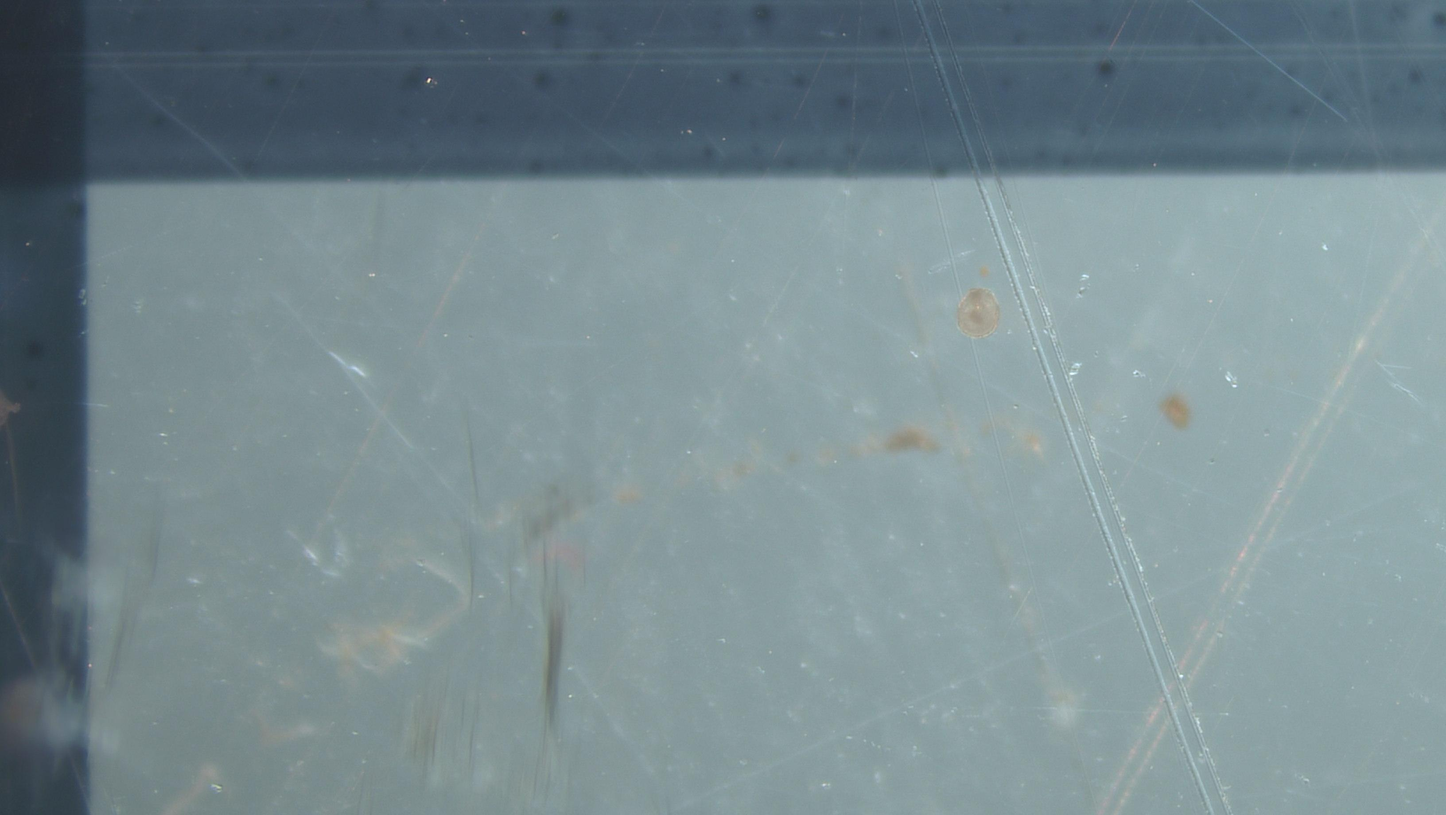live: (956, 288, 1000, 339)
